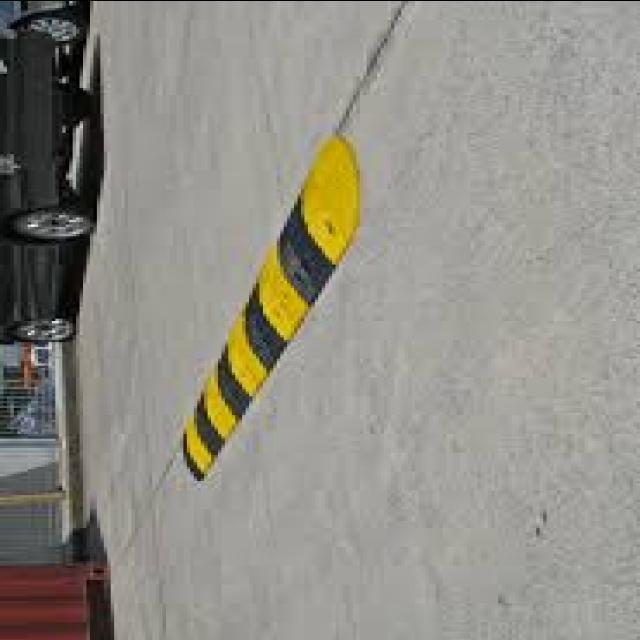speedbreaker: (160, 142, 390, 486)
